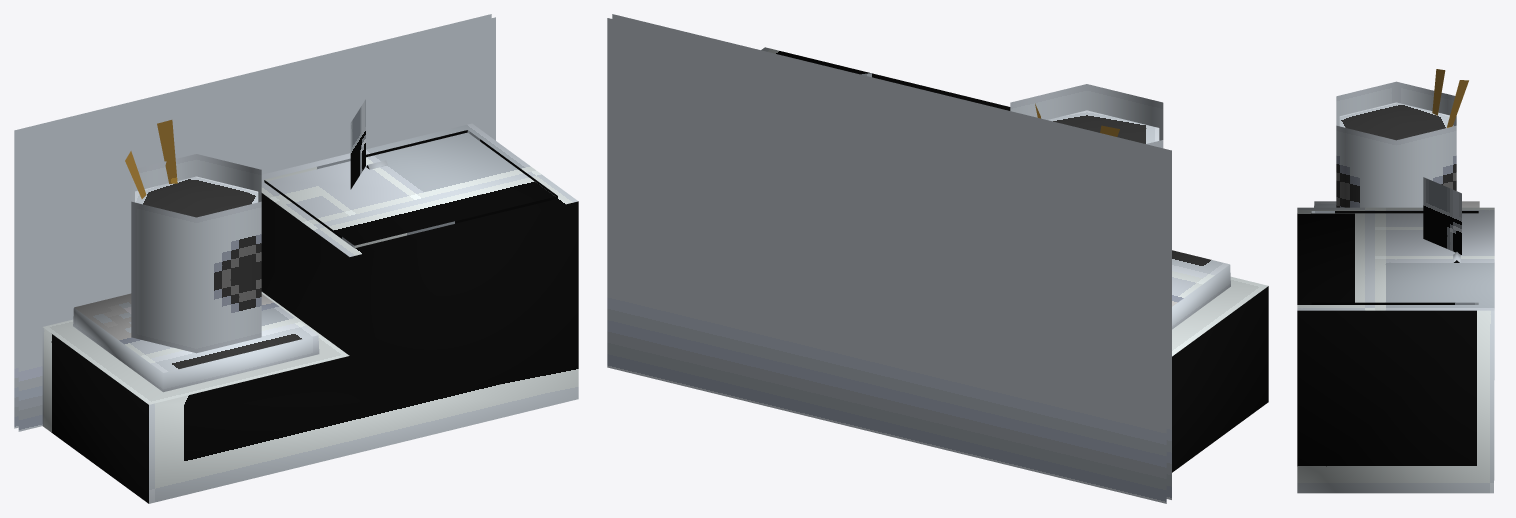
3 renders of one model, left to right at view 1: azimuth 30°, elevation 25°; view 2: azimuth 150°, elevation 25°; view 3: azimuth 270°, elevation 25°, orthographic. The views are drawn at different scales.
Visible parts, largest first — view 1: 3779kg_sh1_02; view 2: 3779kg_sh1_02; view 3: 3779kg_sh1_02.
Boxes of the visible parts, box(x1,y1,x2,y2) form: 3779kg_sh1_02: box(14, 14, 578, 503); 3779kg_sh1_02: box(607, 14, 1268, 503); 3779kg_sh1_02: box(1297, 69, 1494, 493).
Size of the model in its own units: 1.89 by 1.13 by 0.7604.
Materials: 4 (4 with a texture image).
